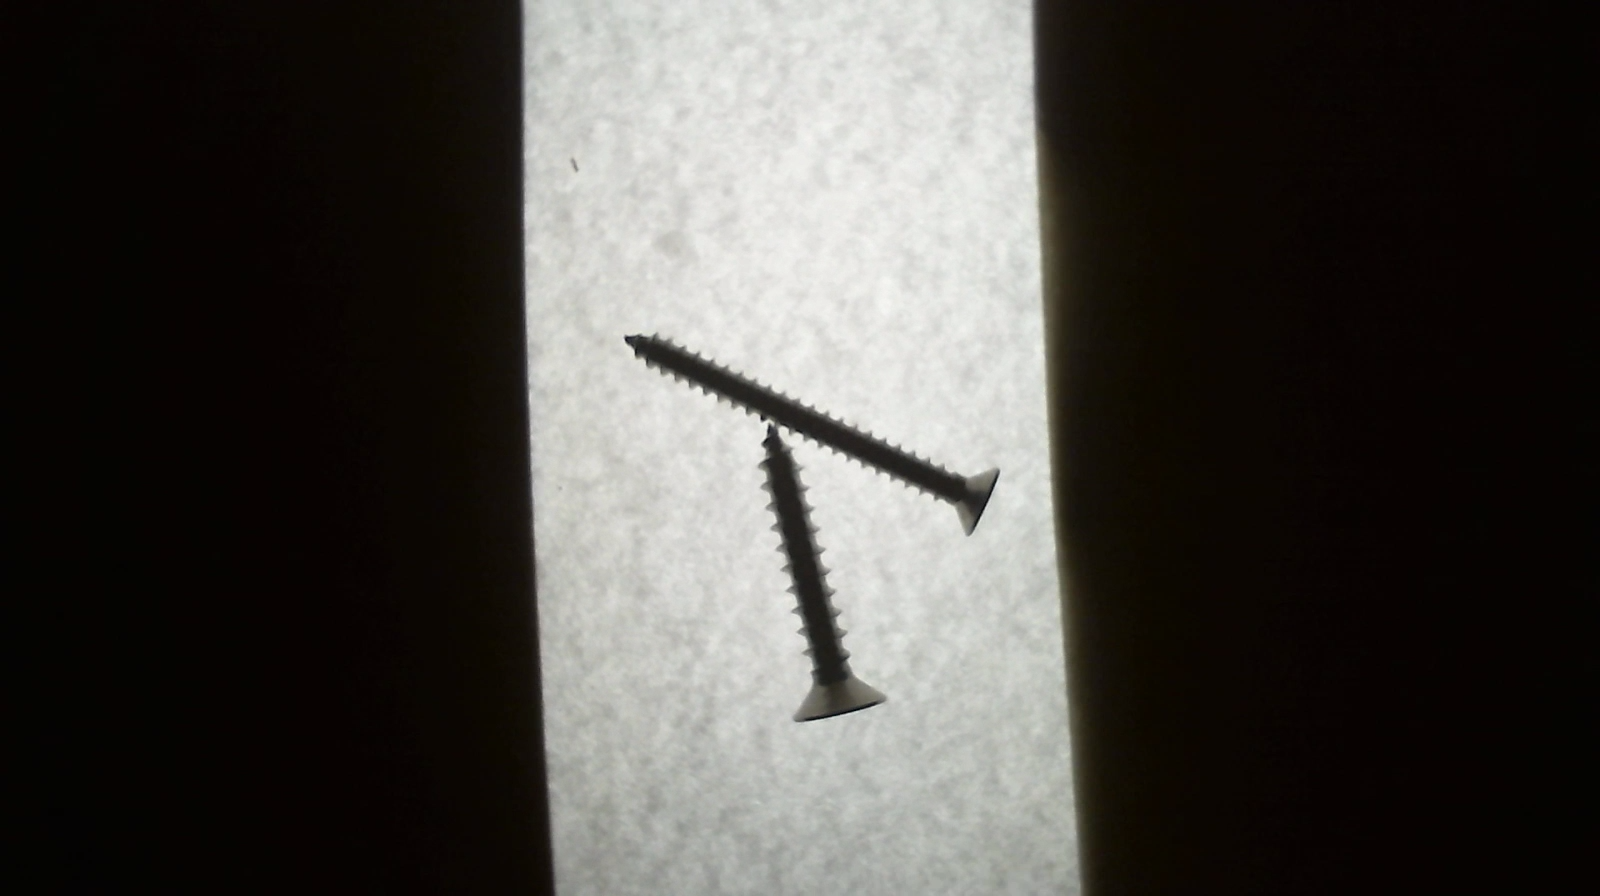S001: (746, 417, 889, 727)
S002: (620, 328, 1007, 539)
